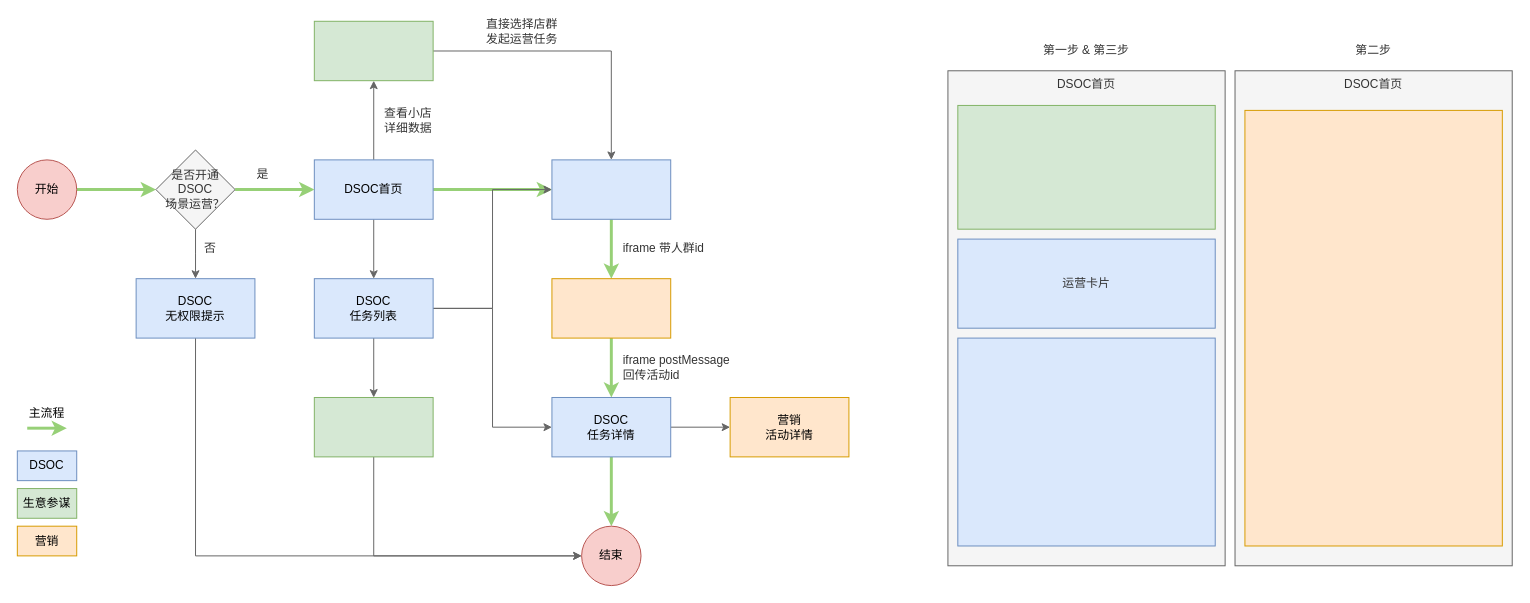
This 1530x603 diagram has some shape labels left out. Each missing label, with the centre of its shape:
DSOC 创建运营任务: the point at 611,189
iframe嵌入 生意参谋【小店洞察】 页面局部: the point at 1086,166
iframe嵌入 营销活动创建页面: the point at 1373,327
生意参谋 小店洞察: the point at 373,50
生意参谋 活动分析: the point at 373,426
营销 创建品牌券: the point at 611,308
运营任务列表Top 10: the point at 1086,441
